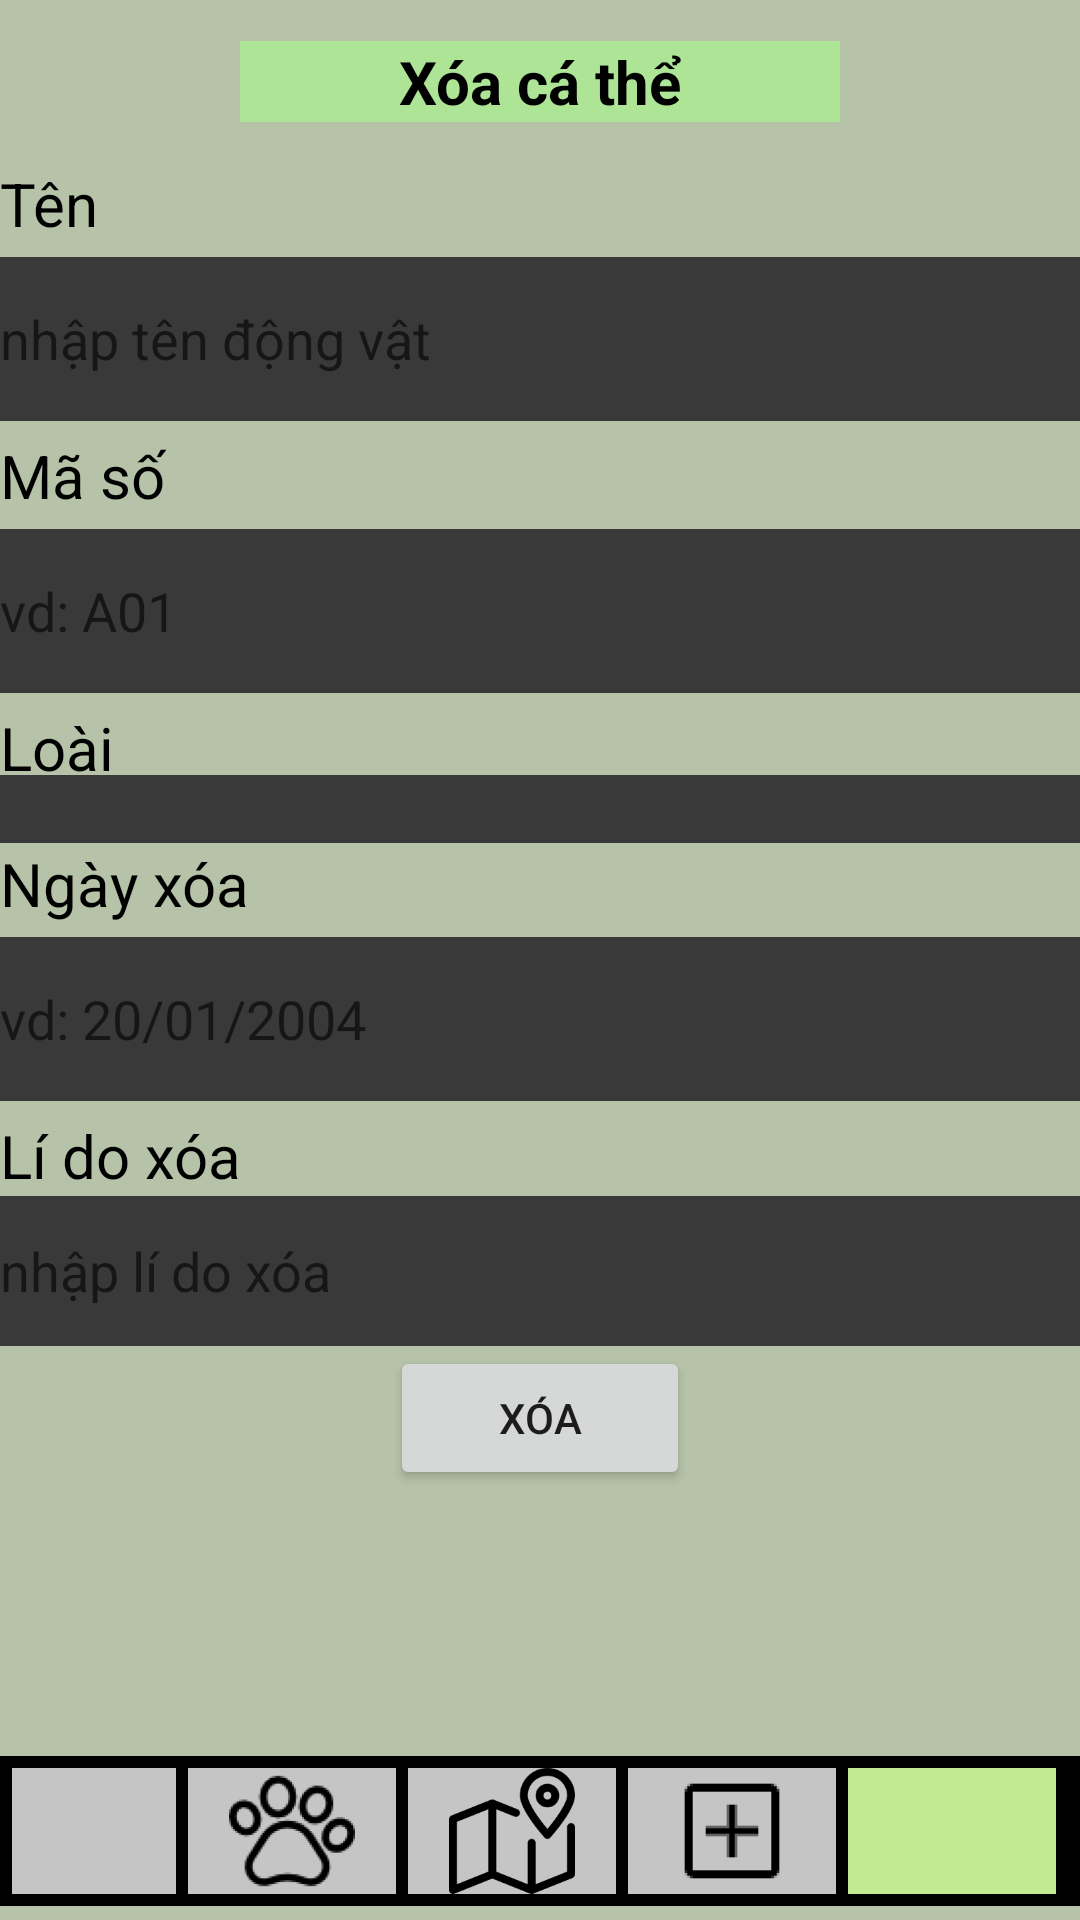

Where to tap for icons on this 1080 × 1920 app screen, as (x,y):
add: (732,1831)
animal: (292,1831)
mapicon: (512,1831)
